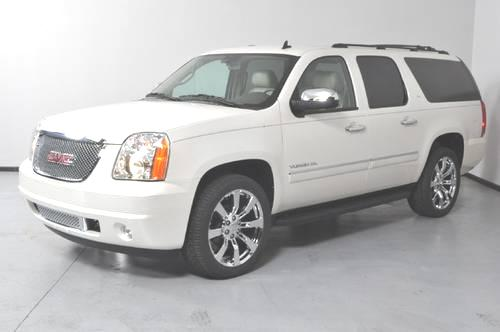GMC: (40, 146, 83, 168)
